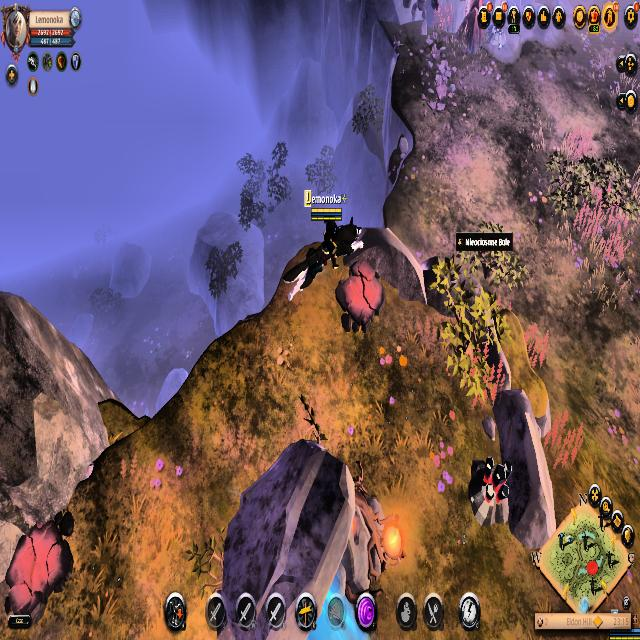ore tier 5: (470, 454, 515, 532)
